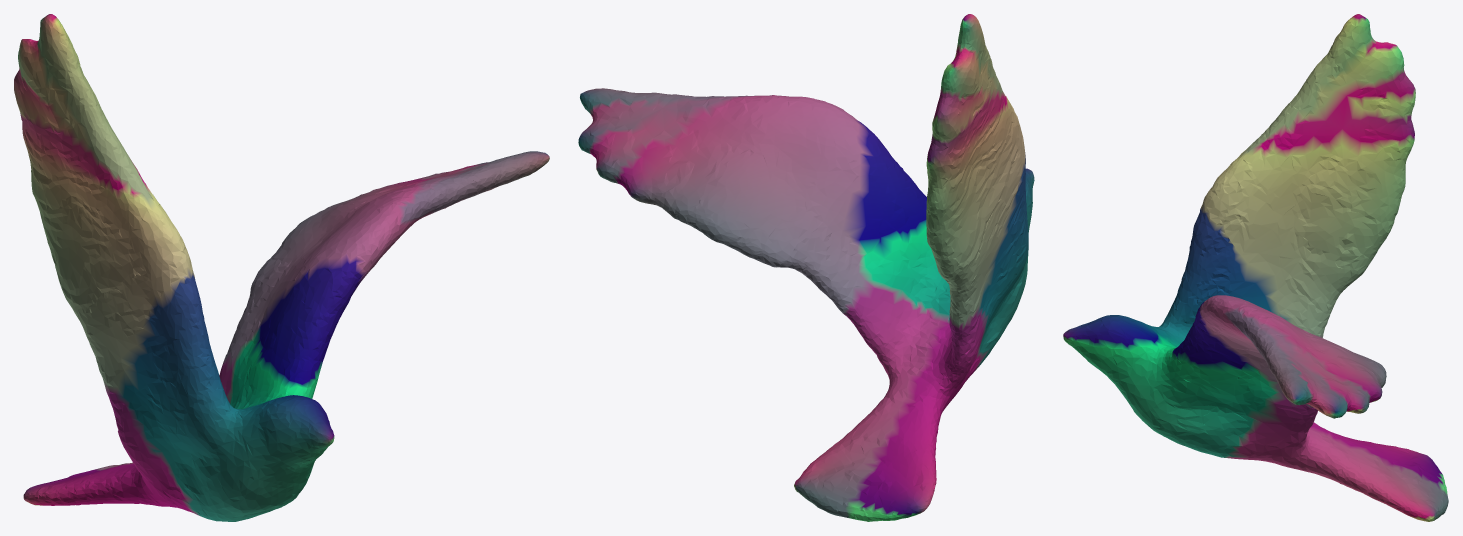
The model's file is bird1-13.off.obj.
The picture shows the model from 3 angles, left to right: view 1: azimuth 30°, elevation 25°; view 2: azimuth 150°, elevation 25°; view 3: azimuth 270°, elevation 25°; orthographic projection. The views are drawn at different scales.
Bounding box in the file's own units: 1.26 × 1.36 × 1.04.
